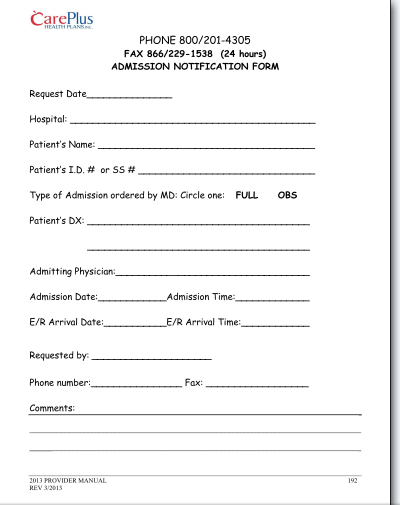textline: (22, 421, 363, 438), (23, 444, 366, 458), (84, 243, 313, 255), (94, 142, 317, 154), (135, 168, 325, 182), (115, 269, 310, 282), (85, 219, 316, 229), (69, 120, 323, 129), (89, 348, 216, 364), (77, 410, 365, 416), (206, 380, 310, 394), (234, 294, 319, 308), (90, 380, 184, 392), (85, 92, 176, 104), (241, 321, 314, 332), (103, 318, 169, 330), (96, 295, 169, 304)
